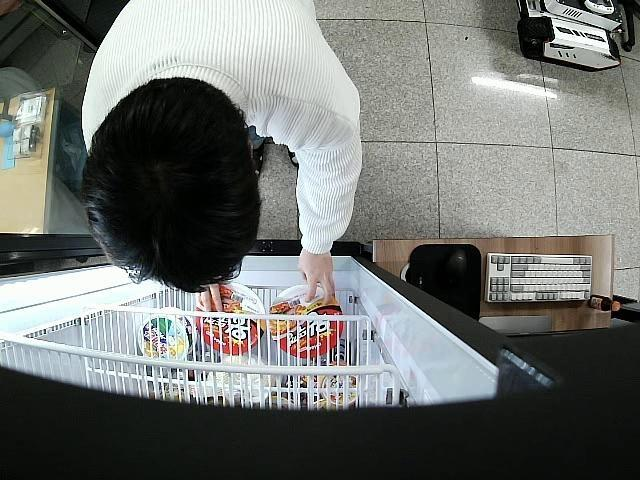10_wangTtukkeong: (271, 286, 342, 356), (196, 283, 263, 354)
